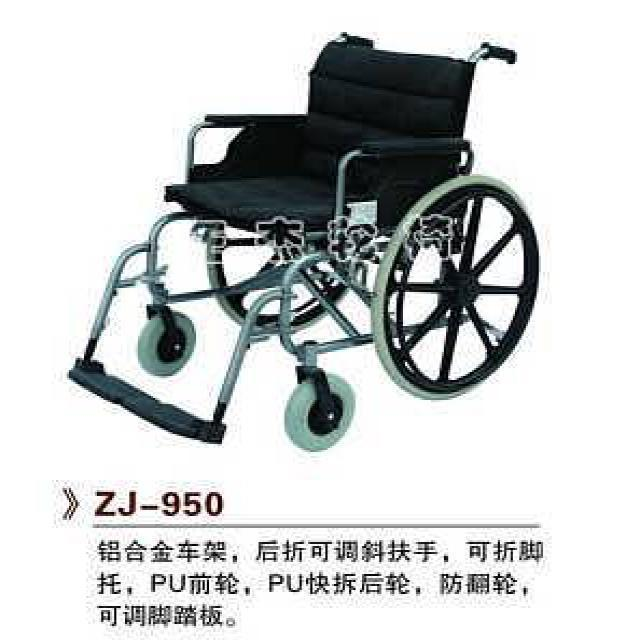wheelchairs: (72, 38, 537, 451)
